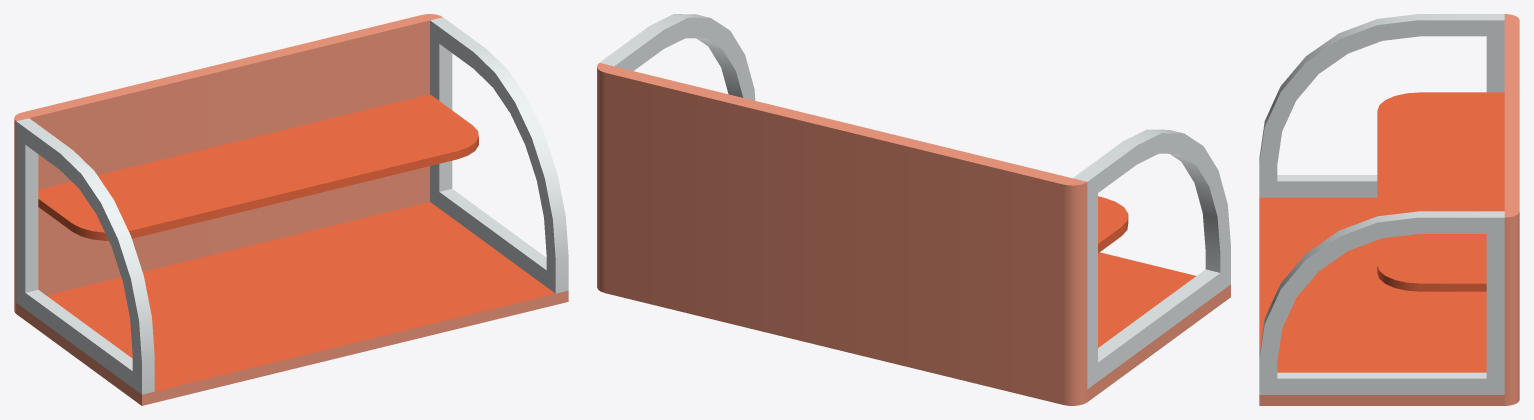
Rendered from shelf_4.fbx.
The picture shows the model from 3 angles, left to right: view 1: azimuth 30°, elevation 25°; view 2: azimuth 150°, elevation 25°; view 3: azimuth 270°, elevation 25°; orthographic projection. The views are drawn at different scales.
Parts seen in each view (by area): view 1: Shelf_4; view 2: Shelf_4; view 3: Shelf_4.
Boxes of the visible parts, x1,y1,x2,y2 form: Shelf_4: [14, 14, 568, 405]; Shelf_4: [597, 14, 1230, 405]; Shelf_4: [1259, 14, 1519, 405].
Size of the model in its own units: 345 by 149 by 186.
